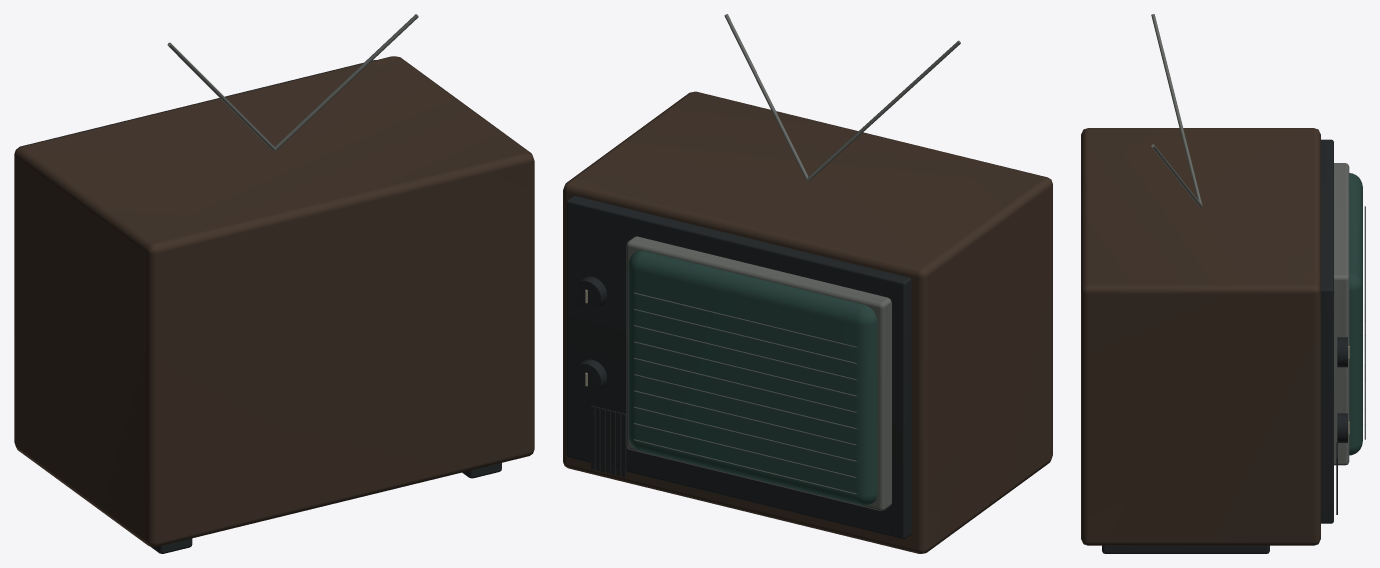
The model's file is prop-crt-tv-v01.glb.
3 renders of one model, left to right at view 1: azimuth 30°, elevation 25°; view 2: azimuth 150°, elevation 25°; view 3: azimuth 270°, elevation 25°, orthographic. The views are drawn at different scales.
Parts seen in each view (by area): view 1: crt-tv; view 2: crt-tv; view 3: crt-tv.
Part boxes in pixels (left/top/right/bottom): crt-tv: left=14, top=14, right=534, bottom=553; crt-tv: left=563, top=14, right=1052, bottom=553; crt-tv: left=1081, top=14, right=1365, bottom=553.
Size of the model in its own units: 0.64 by 0.7614 by 0.475.
